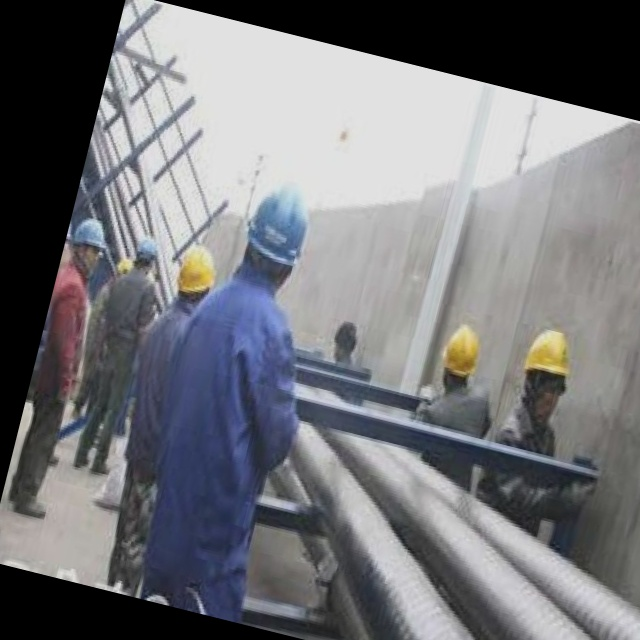Sin_Casco_Mascarrilla: (512, 324, 580, 419)
